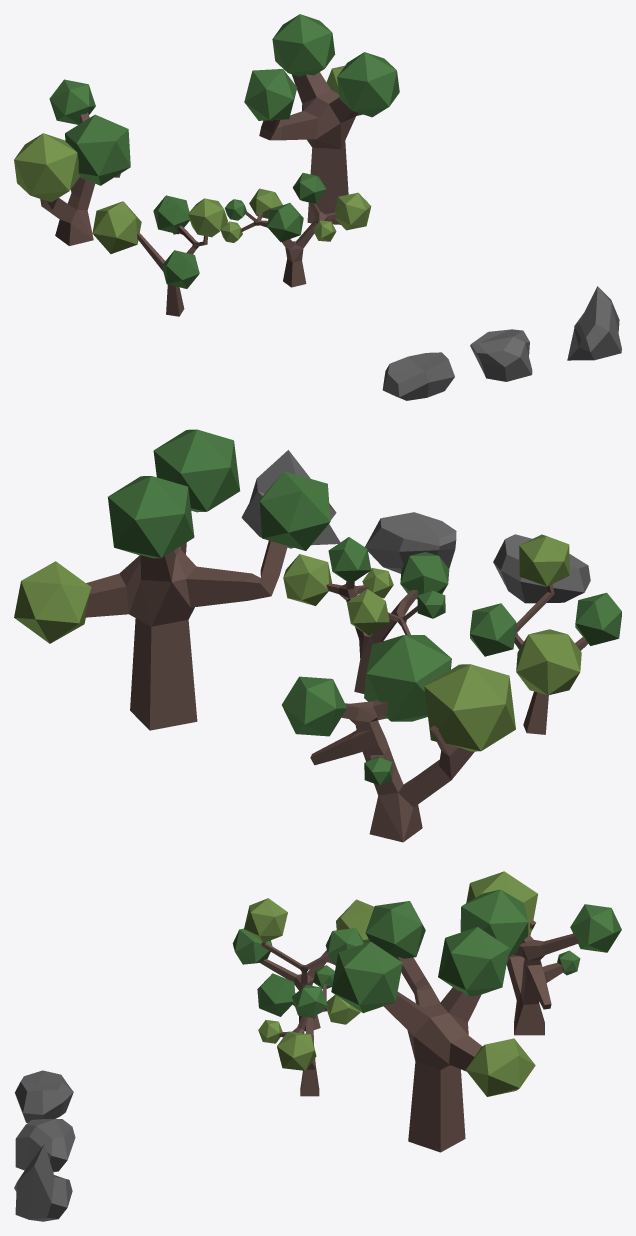
File: TreesRocksNature.glb
The picture shows the model from 3 angles, top to bottom: view 1: azimuth 30°, elevation 25°; view 2: azimuth 150°, elevation 25°; view 3: azimuth 270°, elevation 25°; orthographic projection. The views are drawn at different scales.
Parts seen in each view (by area): view 1: Tree4, Tree3, Tree2, Tree1, Rock1, Rock3, Rock2; view 2: Tree4, Tree3, Tree2, Tree1, Rock2, Rock3, Rock1; view 3: Tree4, Tree3, Tree1, Tree2, Rock1, Rock2, Rock3.
Part boxes in pixels (left/top/right/bottom): Tree4: left=244, top=14, right=399, bottom=224; Tree3: left=14, top=79, right=130, bottom=245; Tree2: left=92, top=195, right=227, bottom=316; Tree1: left=221, top=173, right=371, bottom=287; Rock1: left=567, top=286, right=621, bottom=360; Rock3: left=382, top=352, right=454, bottom=400; Rock2: left=470, top=329, right=532, bottom=381; Tree4: left=14, top=429, right=330, bottom=730; Tree3: left=282, top=635, right=515, bottom=842; Tree2: left=470, top=534, right=621, bottom=734; Tree1: left=283, top=537, right=449, bottom=693; Rock2: left=365, top=512, right=456, bottom=573; Rock3: left=493, top=534, right=590, bottom=603; Rock1: left=241, top=450, right=340, bottom=548; Tree4: left=331, top=901, right=535, bottom=1152; Tree3: left=460, top=871, right=621, bottom=1035; Tree1: left=257, top=965, right=360, bottom=1096; Tree2: left=232, top=898, right=374, bottom=1031; Rock1: left=14, top=1144, right=72, bottom=1221; Rock2: left=15, top=1119, right=75, bottom=1172; Rock3: left=15, top=1070, right=73, bottom=1122.
Size of what is drawn, in the model's own units: 13.27 by 7.13 by 16.18.
